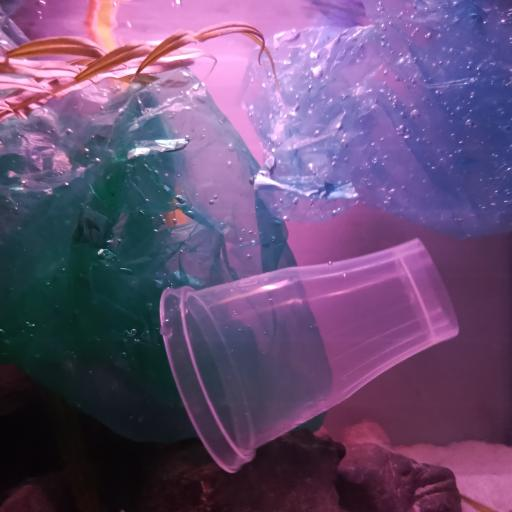plastic_bag: (0, 66, 335, 447), (240, 0, 512, 241)
plastic_cup: (158, 242, 458, 460)
